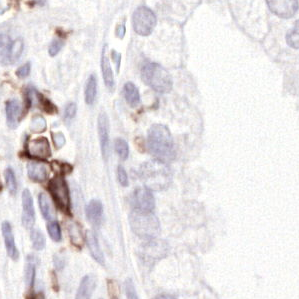Lymphocyte: (46, 170, 75, 217)
